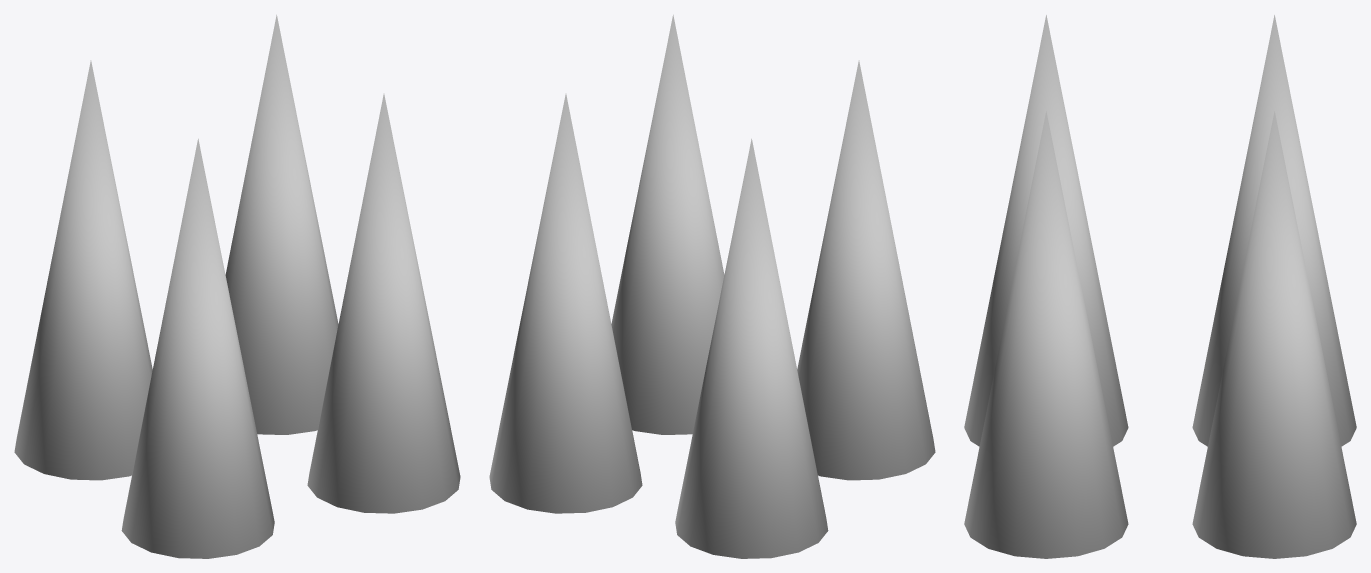
The model's file is thorn.fbx.
3 views of the same model, side by side, from view 1: azimuth 30°, elevation 25°; view 2: azimuth 150°, elevation 25°; view 3: azimuth 270°, elevation 25° (orthographic). The views are drawn at different scales.
Parts seen in each view (by area): view 1: Cone.002; view 2: Cone.002; view 3: Cone.002.
Part boxes in pixels (box(x1,y1,x2,y2)): Cone.002: box(14, 14, 460, 558); Cone.002: box(489, 14, 935, 558); Cone.002: box(964, 15, 1356, 558).
Size of the model in its own units: 0.86 by 1 by 0.86.
